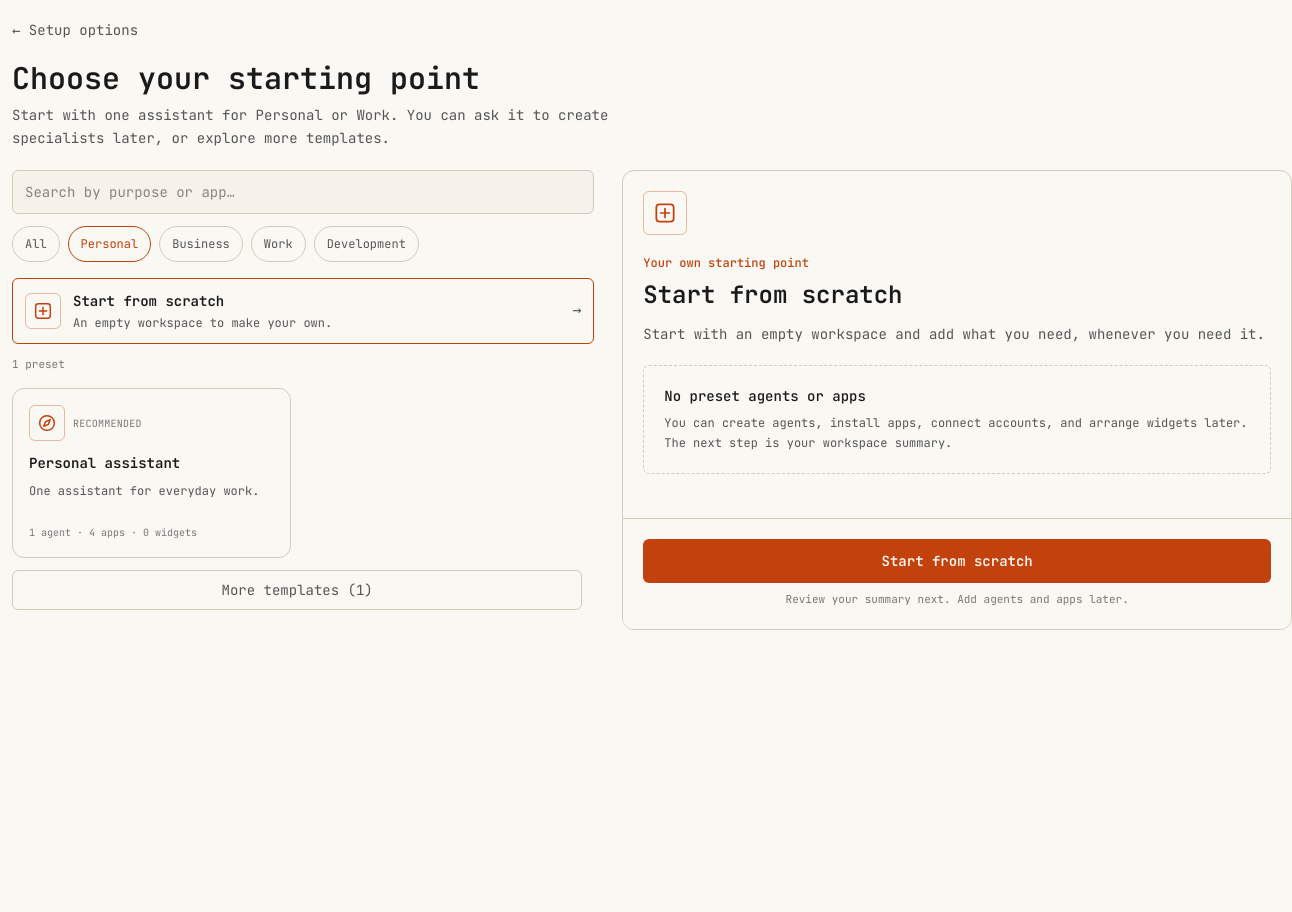
recommendations stay small, More templates and search retain the alternatives
Expected: the button "Personal assistant" is shown, [12, 388, 291, 558]
Expected: the button "Household" is not shown
Click the button "More templates (1)": (297, 590) [12, 570, 582, 610]
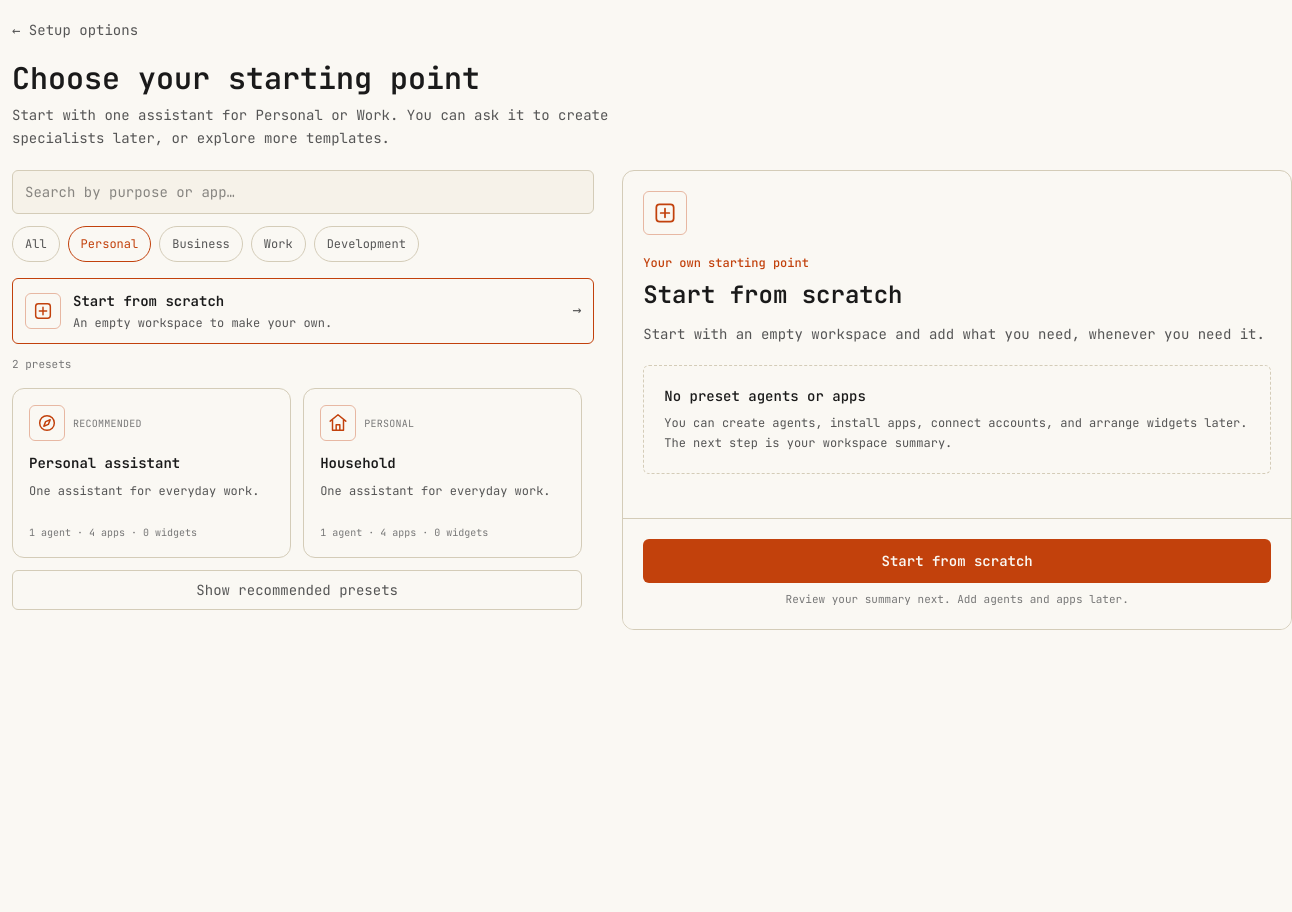
Now the button "Household" is shown, box [303, 388, 582, 558]
Click the button "Show recommended presets": (297, 590) [12, 570, 582, 610]
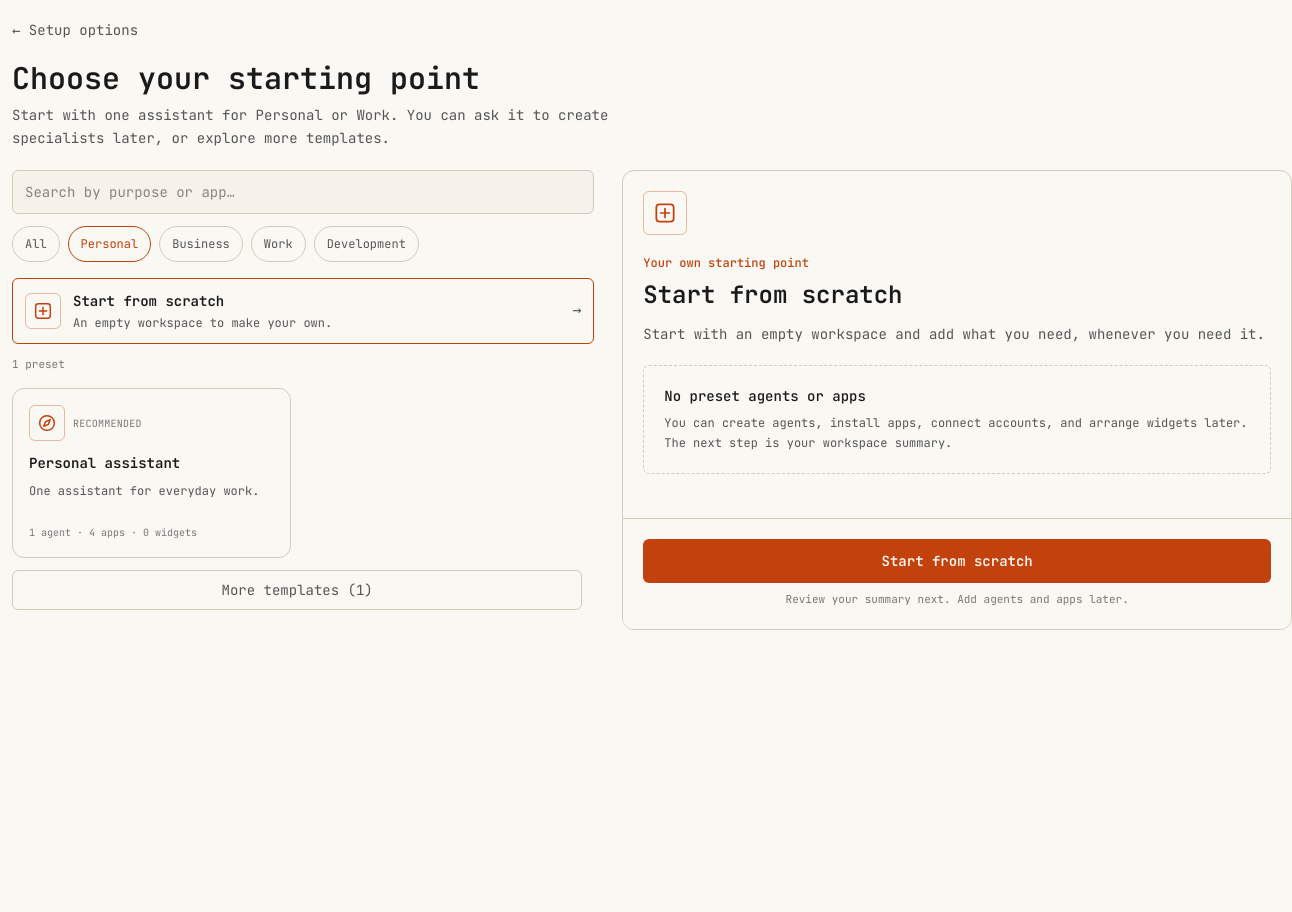
In the search field named "Search presets": (303, 192) [12, 170, 594, 214], type "Household"
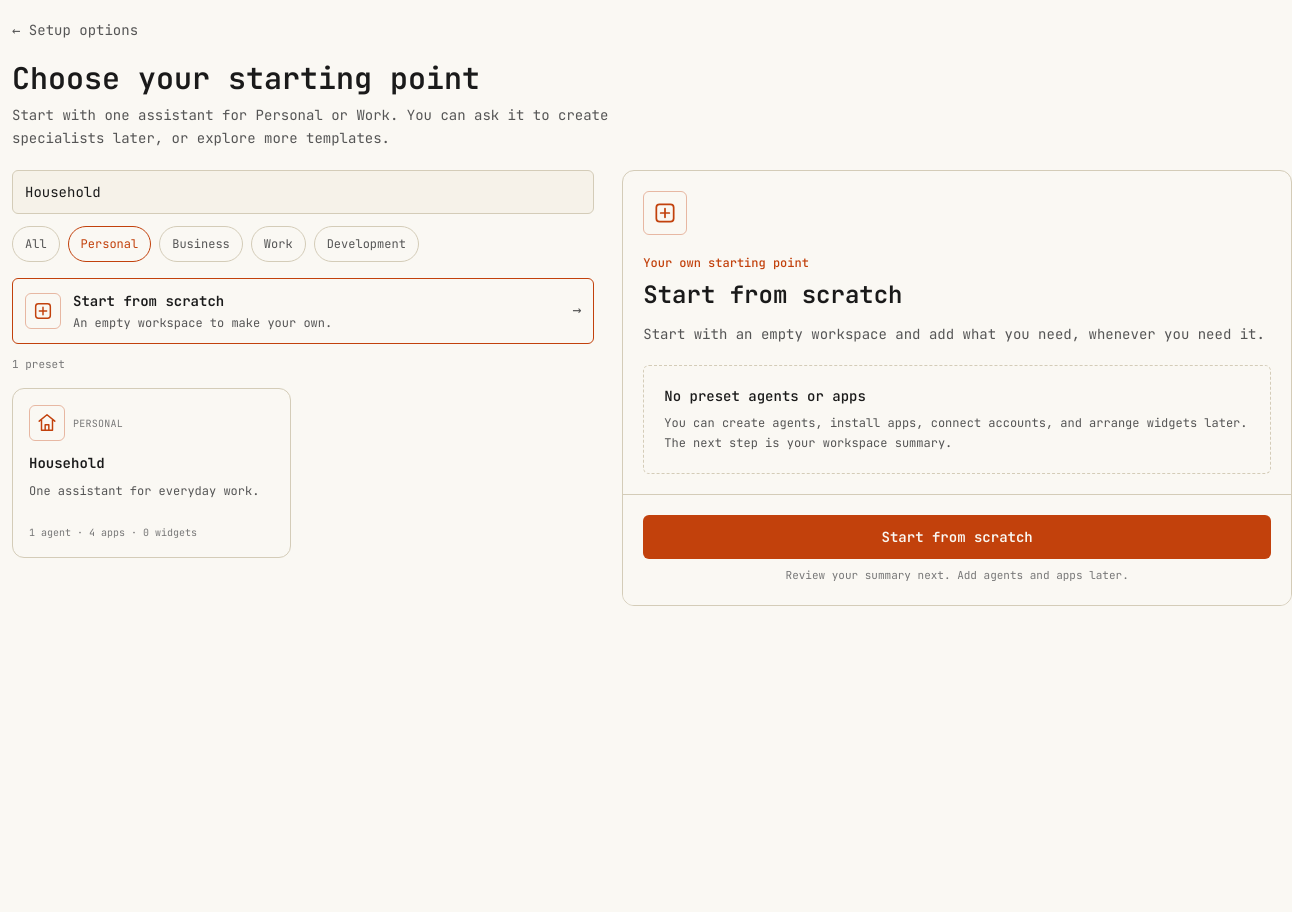
Now the button "Household" is shown, box [12, 388, 291, 558]
